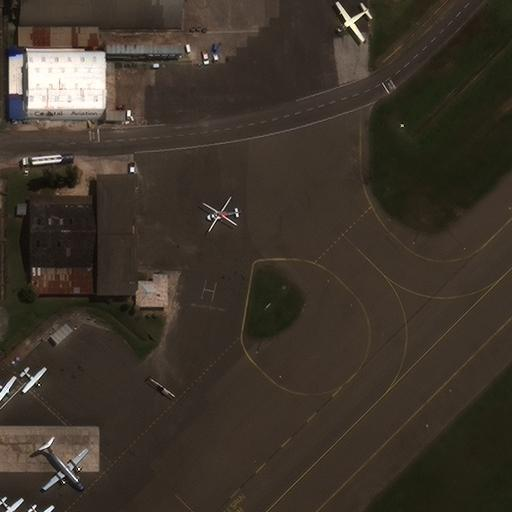Medium Civil Transport: (43, 443, 89, 491), (334, 4, 369, 42)
Small Civil Transport: (22, 369, 47, 393), (0, 377, 16, 401), (0, 498, 24, 511), (29, 506, 55, 511)
